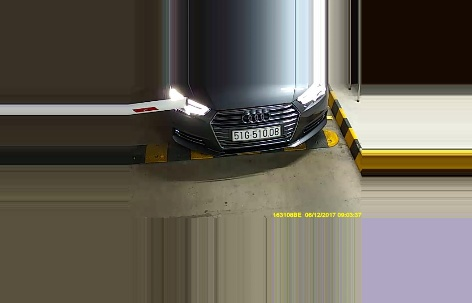plate: (233, 127, 281, 139)
